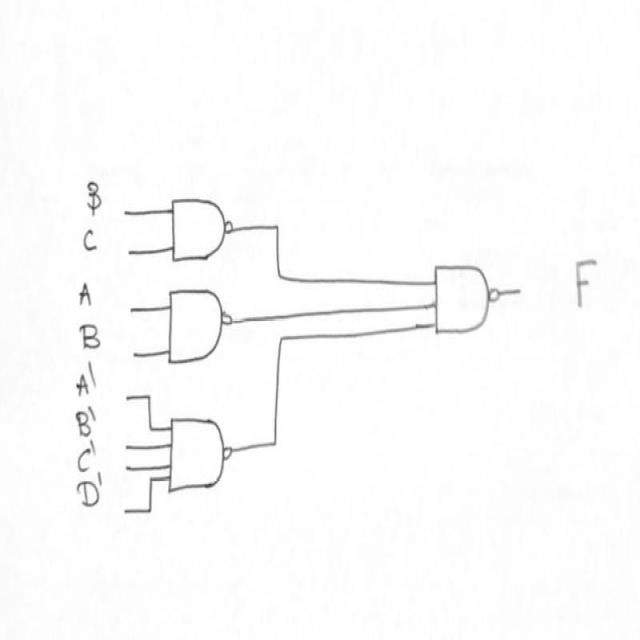NAND: (423, 247, 509, 356), (161, 408, 243, 503), (164, 284, 240, 374), (170, 187, 245, 270)
